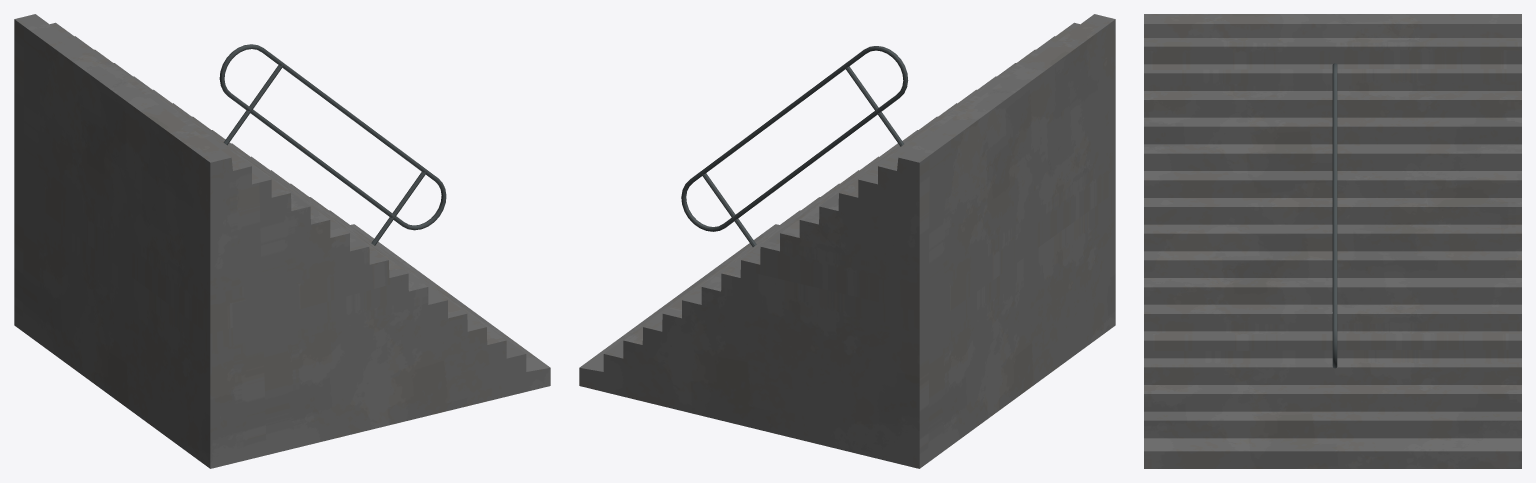
Rendered from Env_Stairs_01.fbx.
3 renders of one model, left to right at view 1: azimuth 30°, elevation 25°; view 2: azimuth 150°, elevation 25°; view 3: azimuth 270°, elevation 25°, orthographic. The views are drawn at different scales.
Visible parts, largest first — view 1: Env_Stairs_01; view 2: Env_Stairs_01; view 3: Env_Stairs_01.
Boxes of the visible parts, left/top/right/bottom form: Env_Stairs_01: left=14, top=14, right=550, bottom=468; Env_Stairs_01: left=579, top=14, right=1115, bottom=468; Env_Stairs_01: left=1144, top=14, right=1521, bottom=468.
Bounding box in the file's own units: 3.01 × 2.69 × 3.
Materials: 2 (2 with a texture image).
